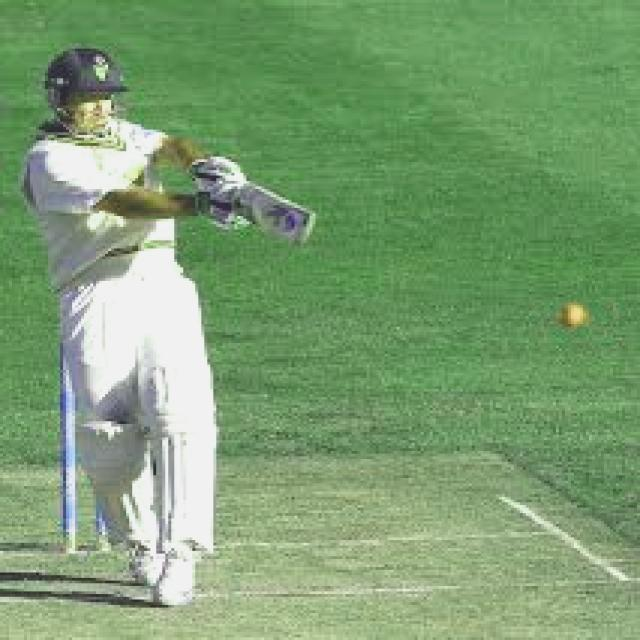toe: (288, 206, 314, 256)
